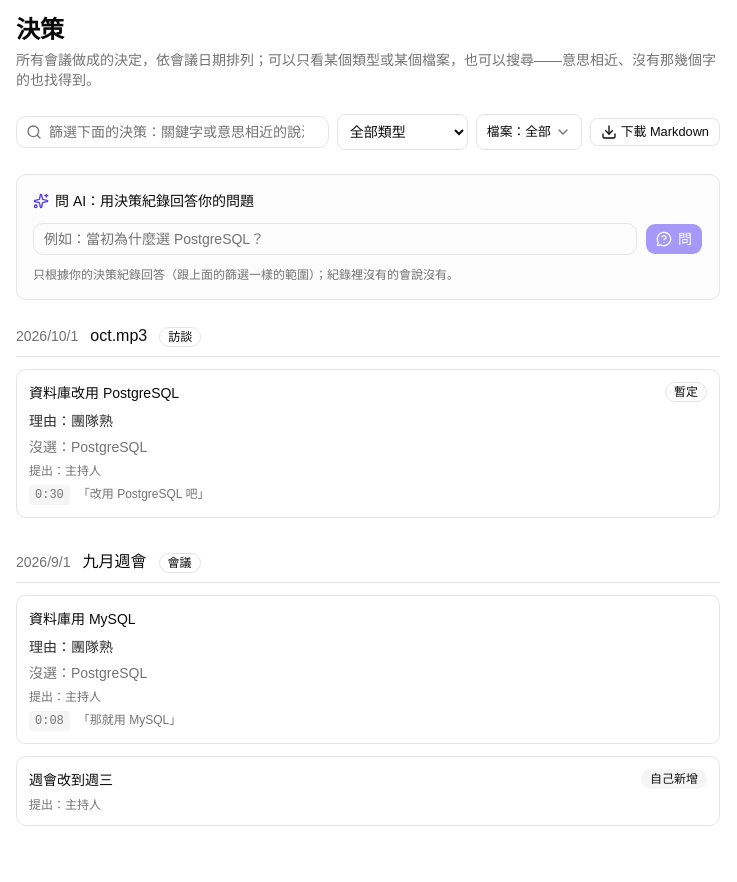
it: DecisionsPage › says when answering failed
Type "為什麼？" into the field named "問決策" at (335, 239), box [33,223,637,255]
Then press Enter
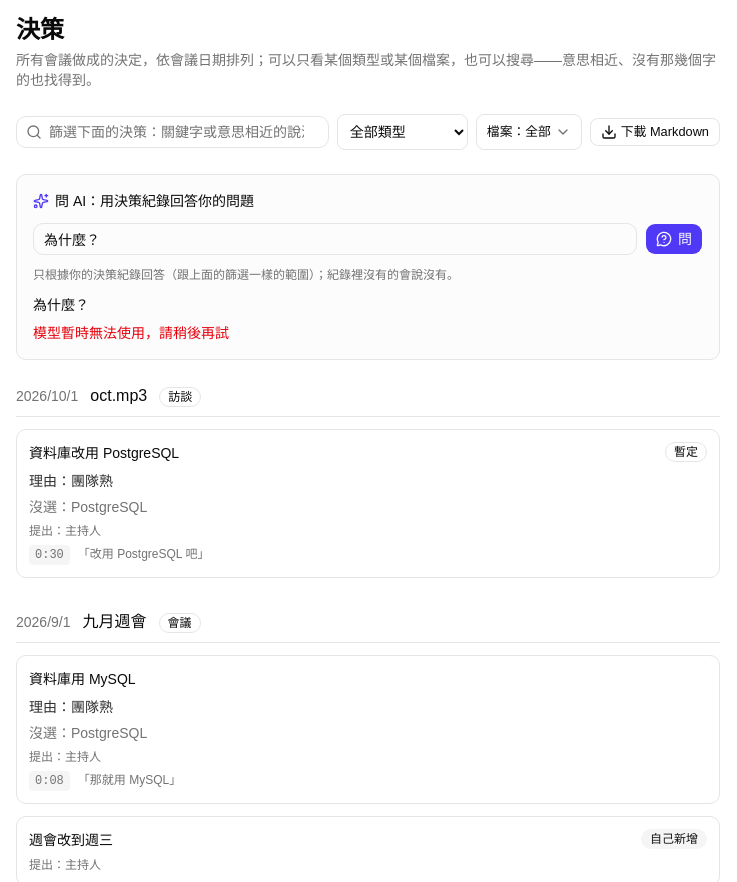
Check: the text "模型暫時無法使用，請稍後再試" is shown, box [33,325,229,341]
